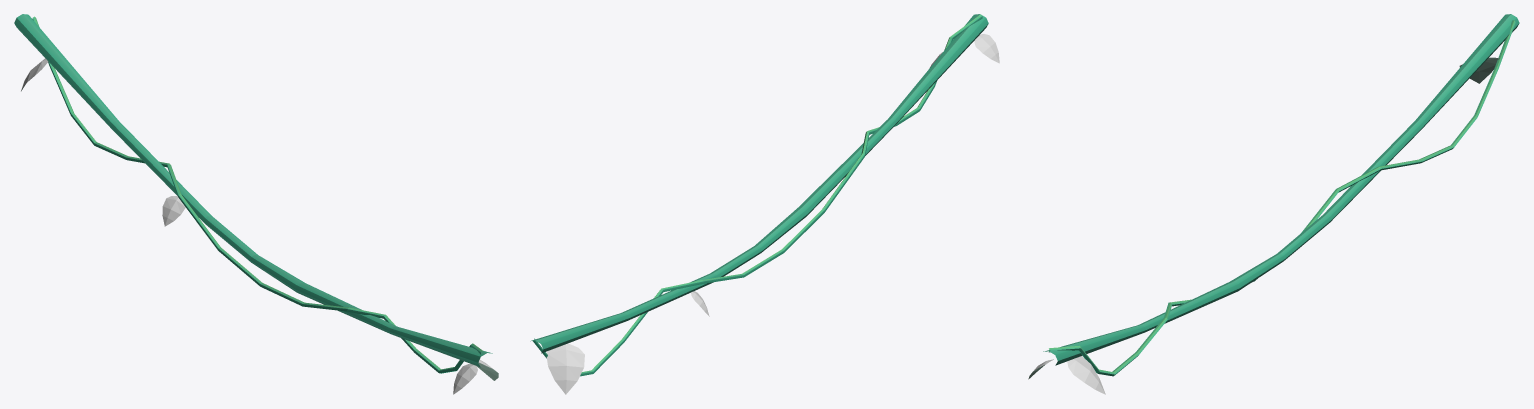
Rendered from vineA.glb.
3 views of the same model, side by side, from view 1: azimuth 30°, elevation 25°; view 2: azimuth 150°, elevation 25°; view 3: azimuth 330°, elevation 25° (orthographic). The views are drawn at different scales.
Visible parts, largest first — view 1: vineA; view 2: vineA; view 3: vineA.
Part boxes in pixels (box(x1,y1,x2,y2)): vineA: box(14, 14, 498, 394); vineA: box(530, 14, 999, 394); vineA: box(1028, 14, 1519, 394).
Bounding box in the file's own units: 0.6806 × 1 × 9.19.
